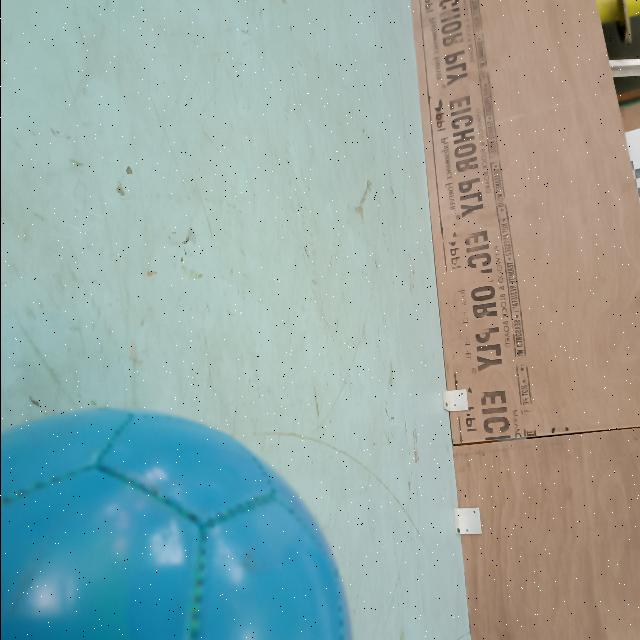B: (0, 400, 358, 640)
